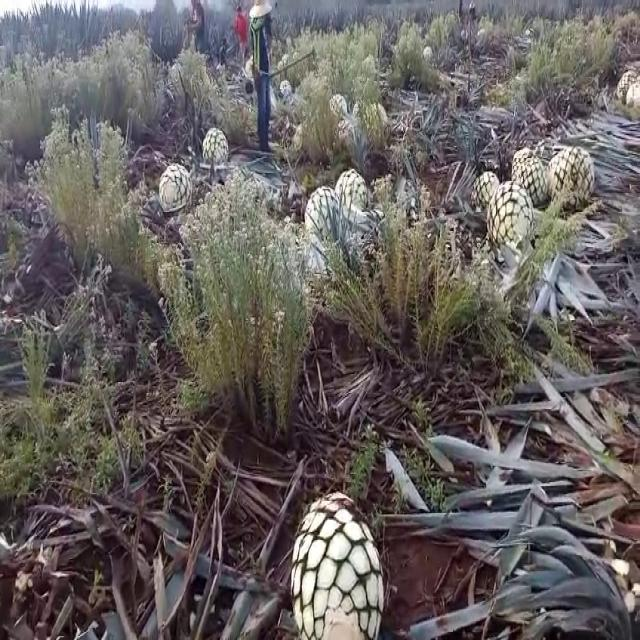agave: (284, 484, 391, 640), (483, 178, 537, 260), (542, 145, 595, 210), (154, 154, 194, 222), (511, 142, 548, 212), (303, 184, 346, 242), (334, 166, 369, 216), (468, 163, 499, 218), (200, 124, 232, 172), (327, 89, 350, 124), (615, 66, 635, 104), (627, 80, 640, 102)
